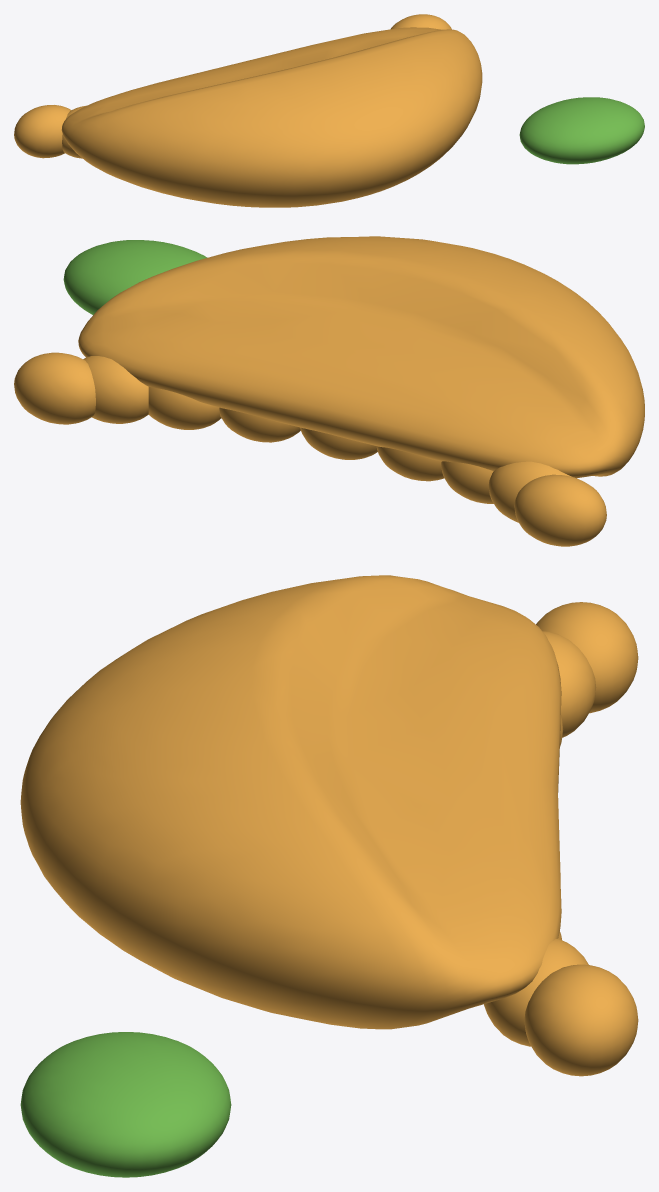
The model's file is comida_empanada.glb.
The picture shows the model from 3 angles, top to bottom: view 1: azimuth 30°, elevation 25°; view 2: azimuth 150°, elevation 25°; view 3: azimuth 270°, elevation 25°; orthographic projection. The views are drawn at different scales.
Parts seen in each view (by area): view 1: empanada.001, ají.001, repulgue 0.001, repulgue 8.001; view 2: empanada.001, ají.001, repulgue 0.001, repulgue 8.001, repulgue 7.001, repulgue 6.001, repulgue 1.001, repulgue 5.001, repulgue 2.001, repulgue 3.001, repulgue 4.001; view 3: empanada.001, ají.001, repulgue 8.001, repulgue 0.001, repulgue 1.001, repulgue 7.001.
Boxes of the visible parts, left/top/right/bottom form: empanada.001: left=61, top=27, right=482, bottom=207; ají.001: left=519, top=97, right=644, bottom=164; repulgue 0.001: left=14, top=105, right=70, bottom=158; repulgue 8.001: left=391, top=14, right=451, bottom=29; empanada.001: left=78, top=236, right=644, bottom=478; ají.001: left=63, top=240, right=207, bottom=314; repulgue 0.001: left=514, top=474, right=606, bottom=546; repulgue 8.001: left=14, top=352, right=95, bottom=424; repulgue 7.001: left=83, top=356, right=148, bottom=423; repulgue 6.001: left=148, top=387, right=221, bottom=429; repulgue 1.001: left=488, top=461, right=574, bottom=522; repulgue 5.001: left=219, top=407, right=300, bottom=442; repulgue 2.001: left=441, top=461, right=493, bottom=503; repulgue 3.001: left=376, top=446, right=443, bottom=481; repulgue 4.001: left=300, top=427, right=377, bottom=459; empanada.001: left=20, top=575, right=561, bottom=1029; ají.001: left=20, top=1032, right=231, bottom=1177; repulgue 8.001: left=524, top=964, right=638, bottom=1076; repulgue 0.001: left=536, top=602, right=638, bottom=713; repulgue 1.001: left=542, top=631, right=596, bottom=737; repulgue 7.001: left=484, top=938, right=588, bottom=1046.
Size of the model in its own units: 0.4339 by 0.0985 by 0.2283.
